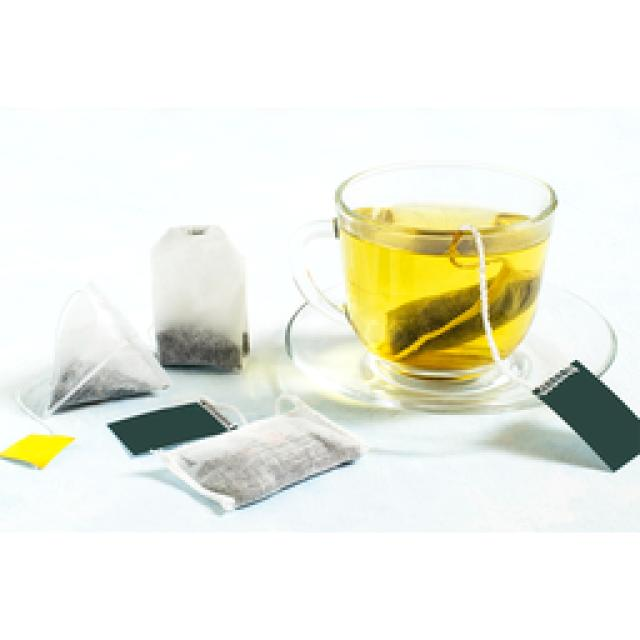tea-bags: (45, 225, 251, 414), (108, 394, 368, 513), (386, 260, 547, 360)
